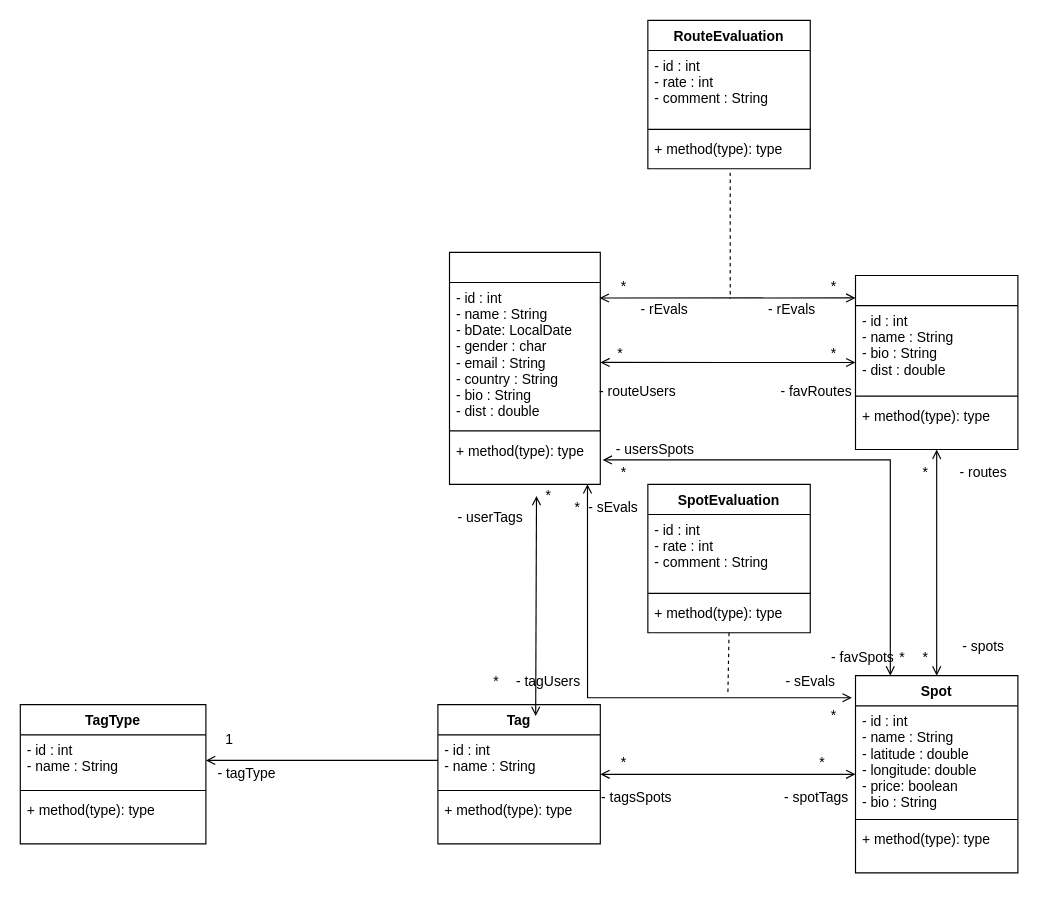
Some shapes in this 1038 by 897 pixel diagram are drawn without their labels. The shapes that lost their labels are listed below. From the top down, each one's box as (x1, y1, x2, y2) in pixels, then its label:
(448, 251, 600, 484): User
(854, 274, 1018, 449): Route
